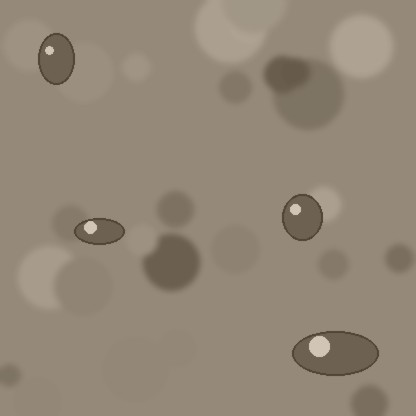gota: (292, 333, 378, 379), (38, 35, 74, 89), (282, 196, 322, 244), (74, 219, 124, 247)
